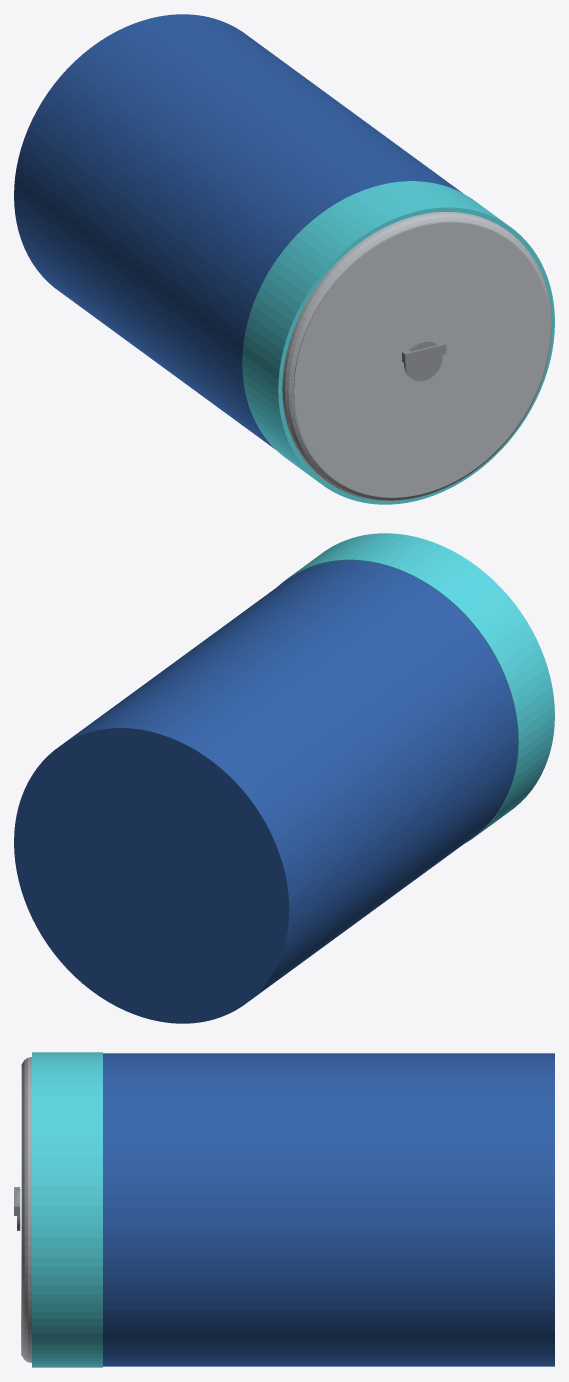
File: fling-can.glb
3 views of the same model, one above another, from view 1: azimuth 30°, elevation 25°; view 2: azimuth 150°, elevation 25°; view 3: azimuth 270°, elevation 25° (orthographic).
Parts seen in each view (by area): view 1: CanBody, TopLid, TopBand, TopRim, Opening; view 2: CanBody, TopBand; view 3: CanBody, TopBand, TopRim.
Part boxes in pixels (x1,y1,x2,y2): CanBody: [14, 14, 463, 449]; TopLid: [293, 222, 549, 497]; TopBand: [242, 181, 554, 504]; TopRim: [282, 212, 552, 500]; Opening: [404, 340, 442, 381]; CanBody: [14, 560, 518, 1023]; TopBand: [277, 533, 554, 842]; CanBody: [103, 1053, 554, 1366]; TopBand: [32, 1052, 102, 1367]; TopRim: [22, 1057, 31, 1362].
Bounding box in the file's own units: 0.0673 × 0.0673 × 0.1155.
